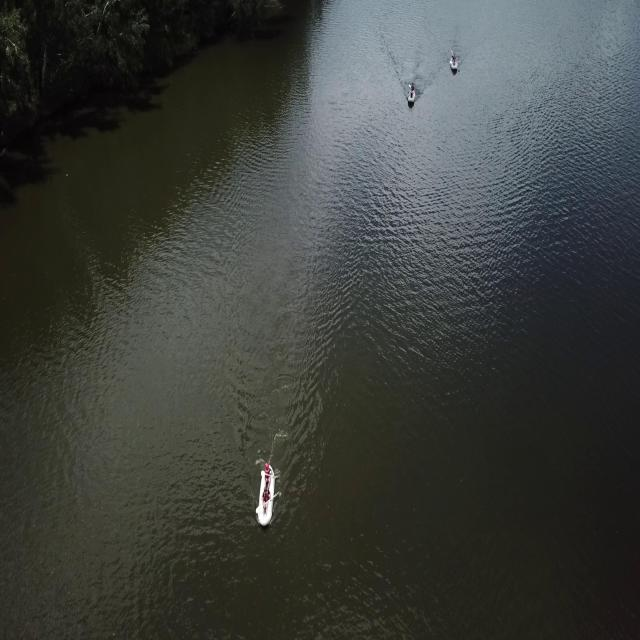kayak: (253, 459, 280, 532), (407, 84, 418, 110), (449, 54, 460, 77)
